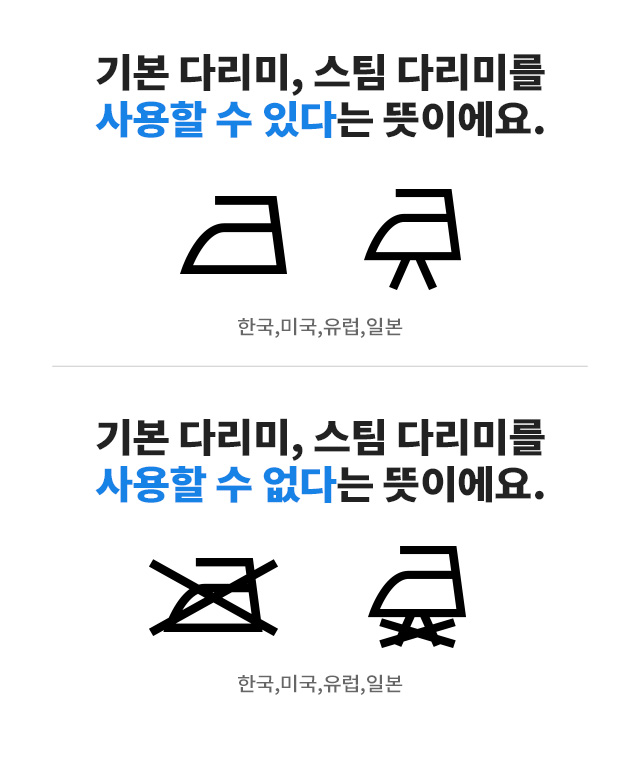do_not_iron: (149, 558, 281, 637)
